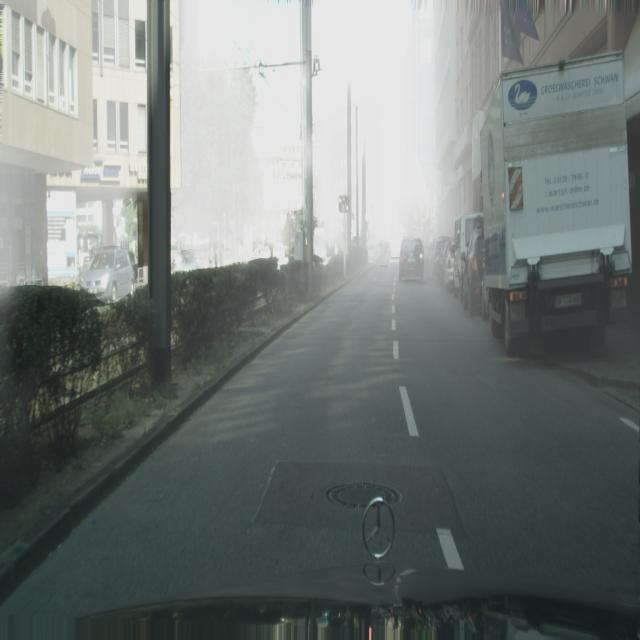rider: (474, 51, 632, 359), (452, 211, 484, 310)
truck: (78, 246, 134, 301), (398, 235, 424, 282), (432, 240, 449, 280), (437, 242, 452, 284), (375, 243, 390, 266), (425, 241, 436, 271)
